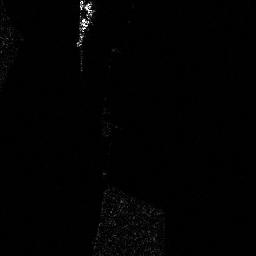ship: (75, 1, 94, 48)
